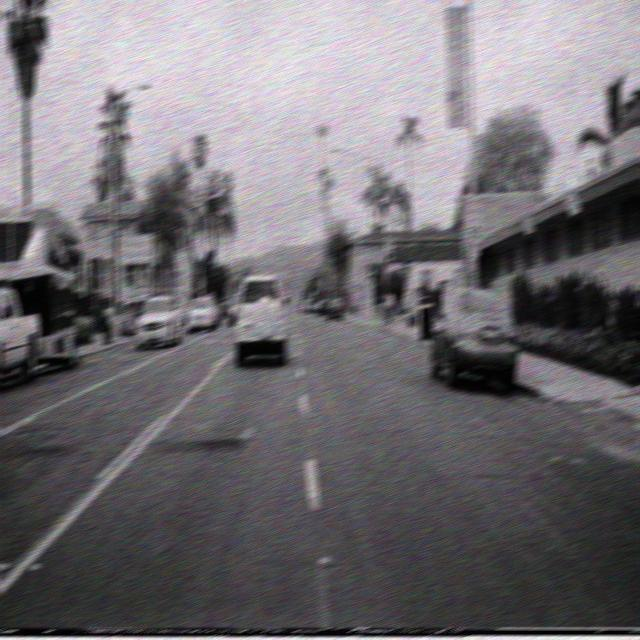speedLimit30: (463, 202, 483, 243)
